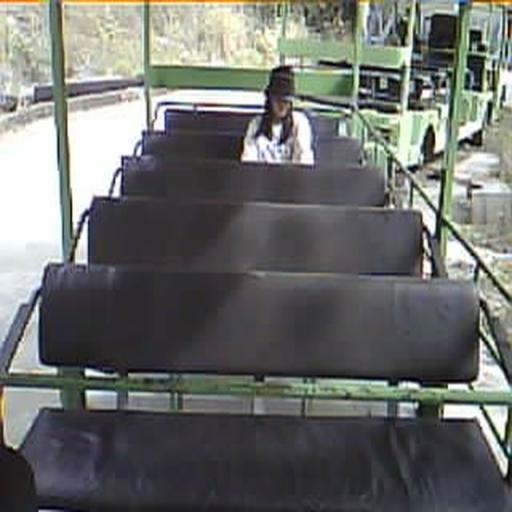persona: (240, 64, 317, 165)
